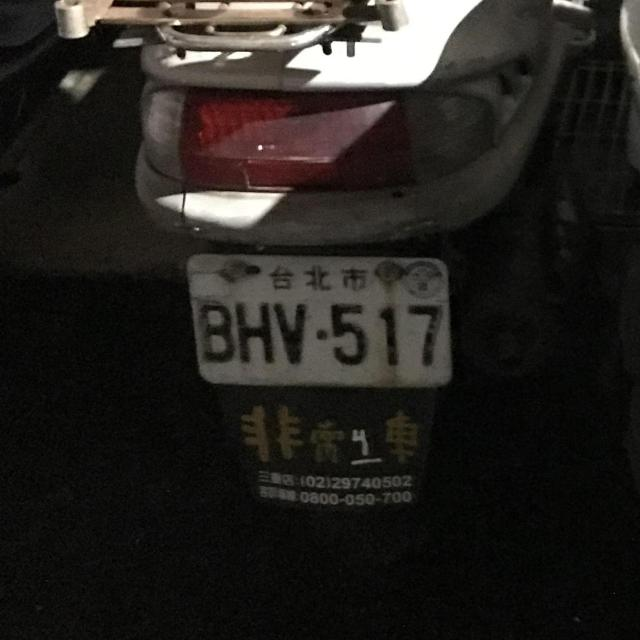W: (176, 223, 466, 416)
